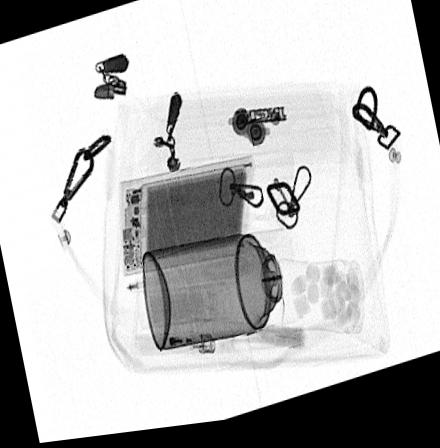Lighter: (135, 334, 217, 359)
Powerbank: (119, 161, 253, 281)
Sprayer: (141, 233, 303, 356)
